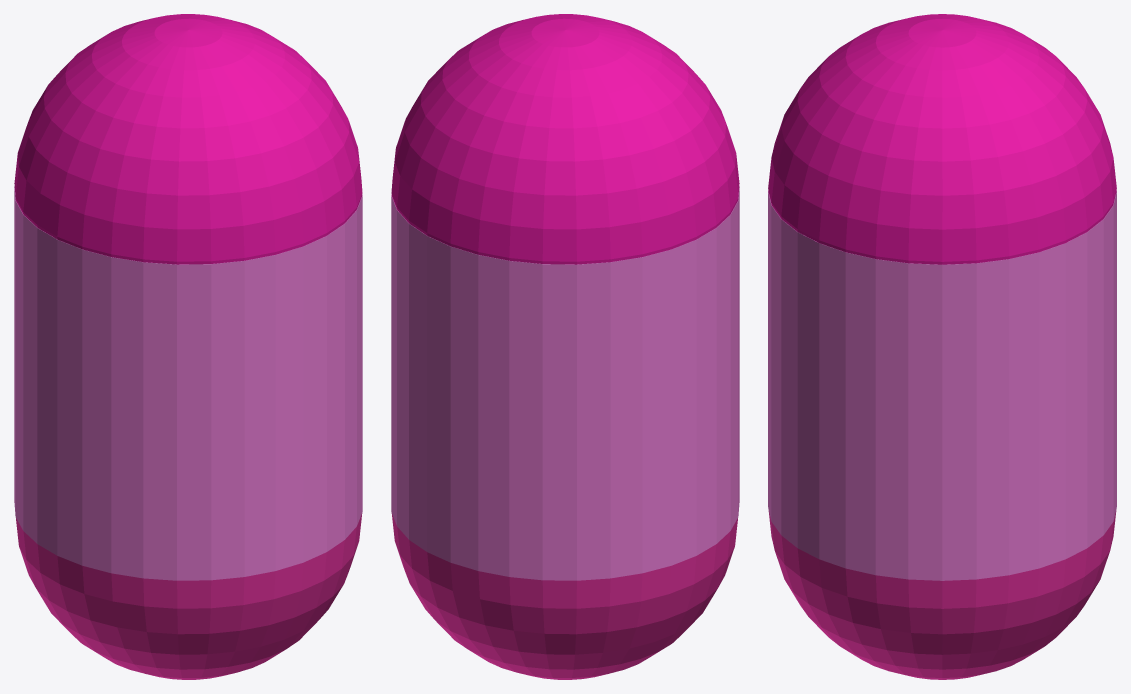
3 views of the same model, side by side, from view 1: azimuth 30°, elevation 25°; view 2: azimuth 150°, elevation 25°; view 3: azimuth 270°, elevation 25° (orthographic).
Parts seen in each view (by area): view 1: Cylinder, Sphere.001, Sphere.002; view 2: Cylinder, Sphere.001, Sphere.002; view 3: Cylinder, Sphere.001, Sphere.002.
Boxes of the visible parts, x1=… form: Cylinder: x1=14, y1=186, x2=362, y2=580; Sphere.001: x1=14, y1=14, x2=362, y2=264; Sphere.002: x1=16, y1=513, x2=362, y2=679; Cylinder: x1=391, y1=186, x2=739, y2=580; Sphere.001: x1=391, y1=14, x2=739, y2=264; Sphere.002: x1=391, y1=513, x2=737, y2=679; Cylinder: x1=768, y1=191, x2=1116, y2=580; Sphere.001: x1=768, y1=14, x2=1116, y2=264; Sphere.002: x1=768, y1=510, x2=1116, y2=679.
Bounding box in the file's own units: 2 × 4.01 × 2.
